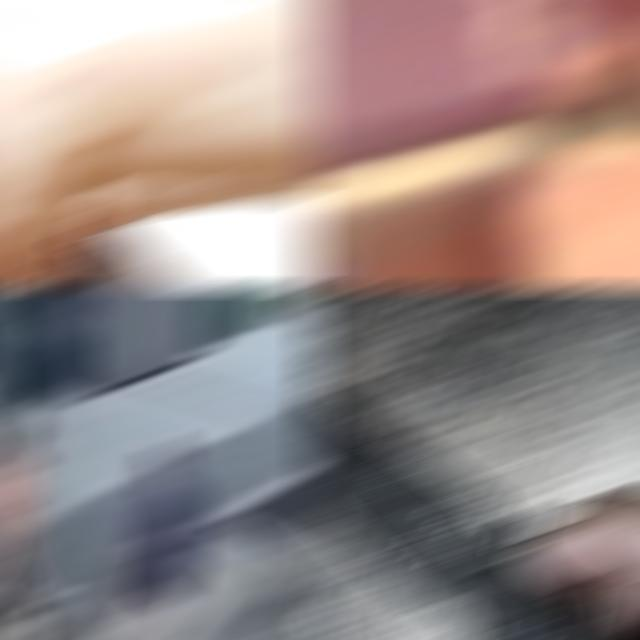Knife: (304, 390, 640, 637), (2, 597, 66, 602)
Knife_Handle: (304, 3, 640, 228), (0, 589, 64, 601)
